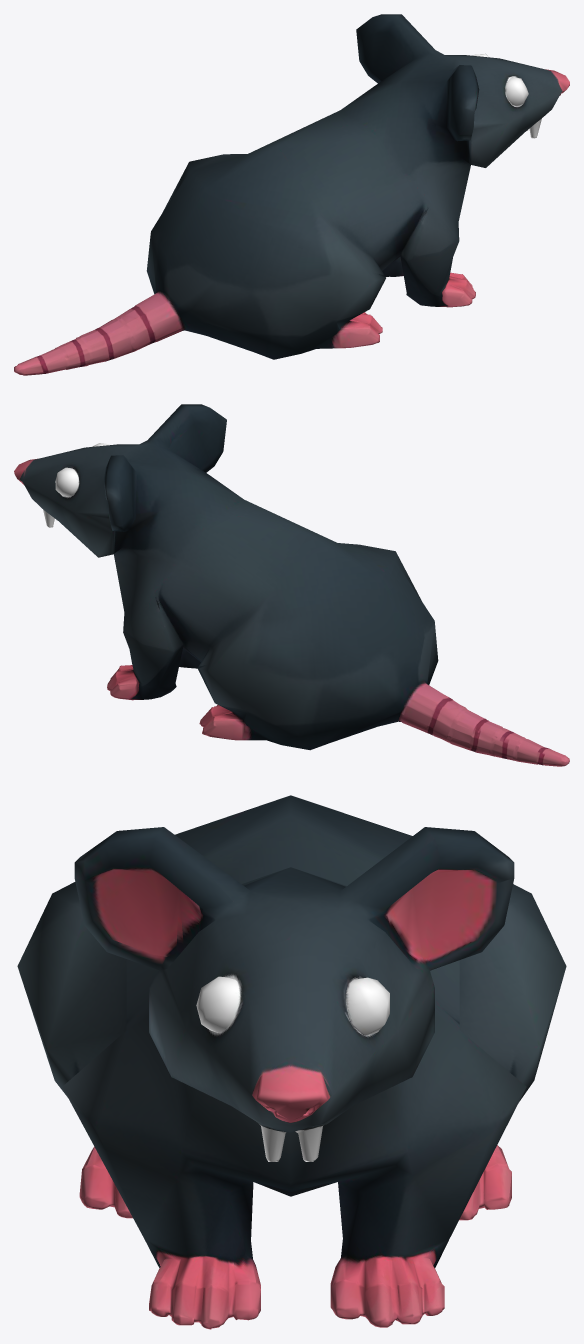
The model's file is 019e0fab-06ff-727b-a5fb-8ab1fe2fe6b7.glb.
3 views of the same model, one above another, from view 1: azimuth 30°, elevation 25°; view 2: azimuth 150°, elevation 25°; view 3: azimuth 270°, elevation 25° (orthographic). The views are drawn at different scales.
Visible parts, largest first — view 1: tripo_node_47f56349-da1e-44e6-b741-04bd975120ab; view 2: tripo_node_47f56349-da1e-44e6-b741-04bd975120ab; view 3: tripo_node_47f56349-da1e-44e6-b741-04bd975120ab.
Boxes of the visible parts, <box> form: tripo_node_47f56349-da1e-44e6-b741-04bd975120ab: <box>14,14,569,375</box>; tripo_node_47f56349-da1e-44e6-b741-04bd975120ab: <box>14,404,569,766</box>; tripo_node_47f56349-da1e-44e6-b741-04bd975120ab: <box>17,795,566,1329</box>.
Bounding box in the file's own units: 0.998 × 0.416 × 0.4316.
Materials: 1 (1 with a texture image).
